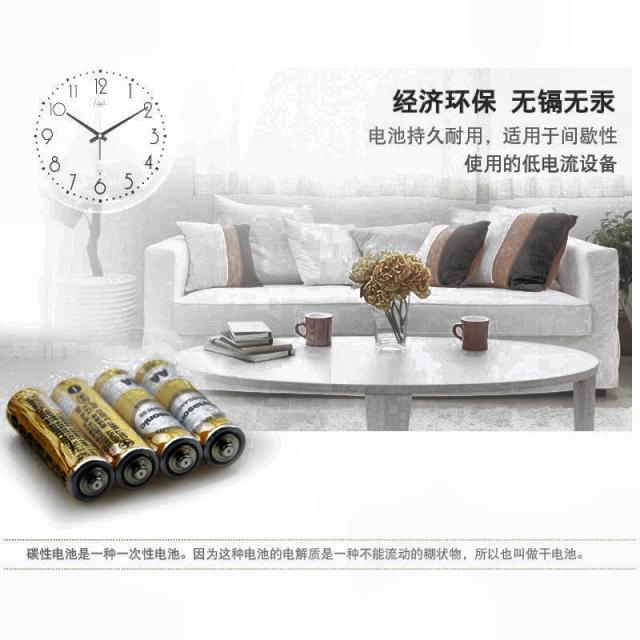Non-Valuable Waste - Batteries: (6, 388, 115, 501), (52, 378, 159, 490), (95, 370, 202, 479), (136, 360, 245, 466)
